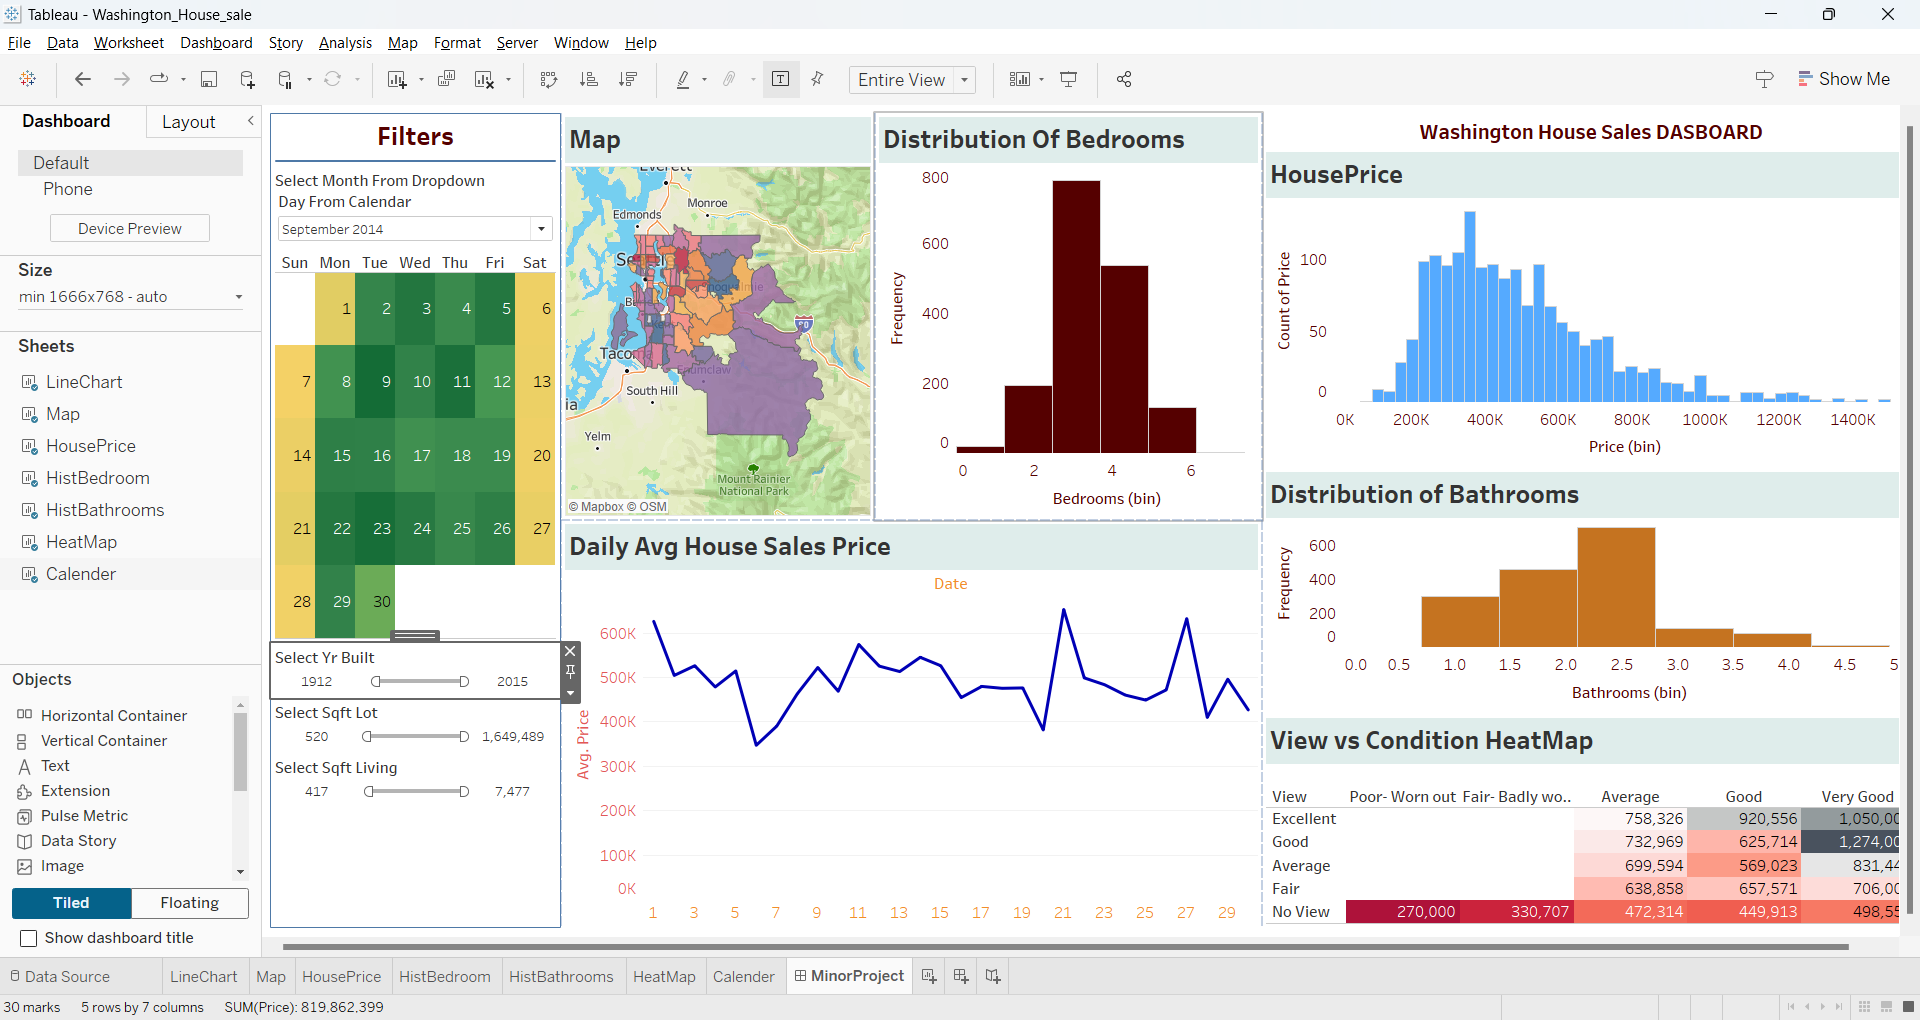

The dashboard page shown, as its layout file describes it:
{"tool":"tableau","page":{"name":"MinorProject","canvas":[1000,1000],"units":"permille","ordinal":0},"visuals":[{"type":"worksheet","title":"Map","mark":"Automatic","box":[162.2,9.6,205.7,490.3]},{"type":"worksheet","title":"HistBedroom","mark":"Automatic","rows":["bedrooms"],"cols":["Bedrooms (bin)"],"box":[367.9,9.6,232.4,490.3]},{"type":"text","box":[600.3,9.6,394.9,42.1]},{"type":"text","box":[5.4,10.8,156.2,50.5]},{"type":"worksheet","title":"HousePrice","mark":"Automatic","rows":["price"],"cols":["Price (bin)"],"box":[600.3,51.8,394.9,385.1]},{"type":"blank","box":[5.4,61.4,156.2,12]},{"type":"filter","title":"Calender","param":"[federated.0zzp6qh1199pcf1a4ewn31pey1jh].[my:date:ok]","box":[5.4,73.4,156.2,98.7]},{"type":"worksheet","title":"Calender","mark":"Square","rows":["date"],"cols":["date"],"box":[5.4,172.1,156.2,475.3]},{"type":"worksheet","title":"HistBathrooms","mark":"Automatic","rows":["bathrooms"],"cols":["Bathrooms (bin)"],"box":[600.3,436.8,394.9,296]},{"type":"worksheet","title":"LineChart","mark":"Automatic","rows":["price"],"cols":["date"],"box":[162.2,499.9,438.1,490.4]},{"type":"filter","title":"Calender","param":"[federated.0zzp6qh1199pcf1a4ewn31pey1jh].[none:yr_built:qk]","box":[5.4,647.4,156.2,87.9]},{"type":"worksheet","title":"HeatMap","mark":"Square","rows":["view"],"cols":["condition"],"box":[600.3,732.9,394.9,257.5]},{"type":"filter","title":"Calender","param":"[federated.0zzp6qh1199pcf1a4ewn31pey1jh].[none:sqft_lot:qk]","box":[5.4,735.3,156.2,87.9]},{"type":"filter","title":"Calender","param":"[federated.0zzp6qh1199pcf1a4ewn31pey1jh].[none:sqft_living:qk]","box":[5.4,823.1,156.2,87.9]}]}

Visuals, with their boxes on the dashboard's canvas, which has no fixed pixel size, in thousandths of its width and height (x1, y1, x2, y2). These are canvas units, not pixel positions in the 1920x1020 screenshot, which may show the page scaled, cropped or inside an application window:
"Map" worksheet: (left=162, top=10, right=368, bottom=500)
"HistBedroom" worksheet: (left=368, top=10, right=600, bottom=500)
text: (left=600, top=10, right=995, bottom=52)
text: (left=5, top=11, right=162, bottom=61)
"HousePrice" worksheet: (left=600, top=52, right=995, bottom=437)
blank: (left=5, top=61, right=162, bottom=73)
"Calender" filter: (left=5, top=73, right=162, bottom=172)
"Calender" worksheet (Square marks): (left=5, top=172, right=162, bottom=647)
"HistBathrooms" worksheet: (left=600, top=437, right=995, bottom=733)
"LineChart" worksheet: (left=162, top=500, right=600, bottom=990)
"Calender" filter: (left=5, top=647, right=162, bottom=735)
"HeatMap" worksheet (Square marks): (left=600, top=733, right=995, bottom=990)
"Calender" filter: (left=5, top=735, right=162, bottom=823)
"Calender" filter: (left=5, top=823, right=162, bottom=911)
